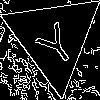Y: (29, 13, 80, 70)
